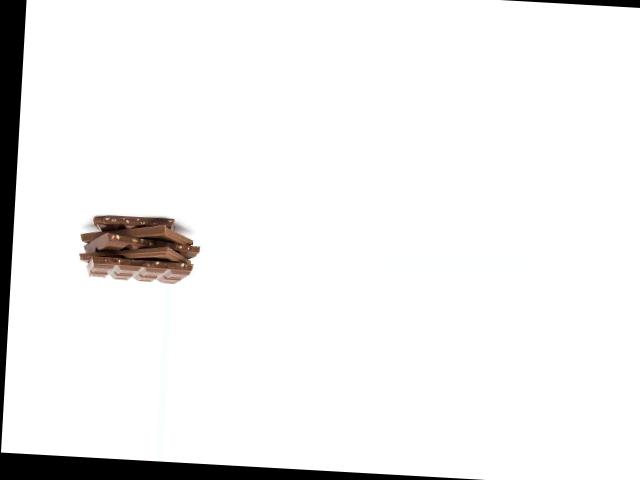chocolate: (82, 207, 194, 257)
